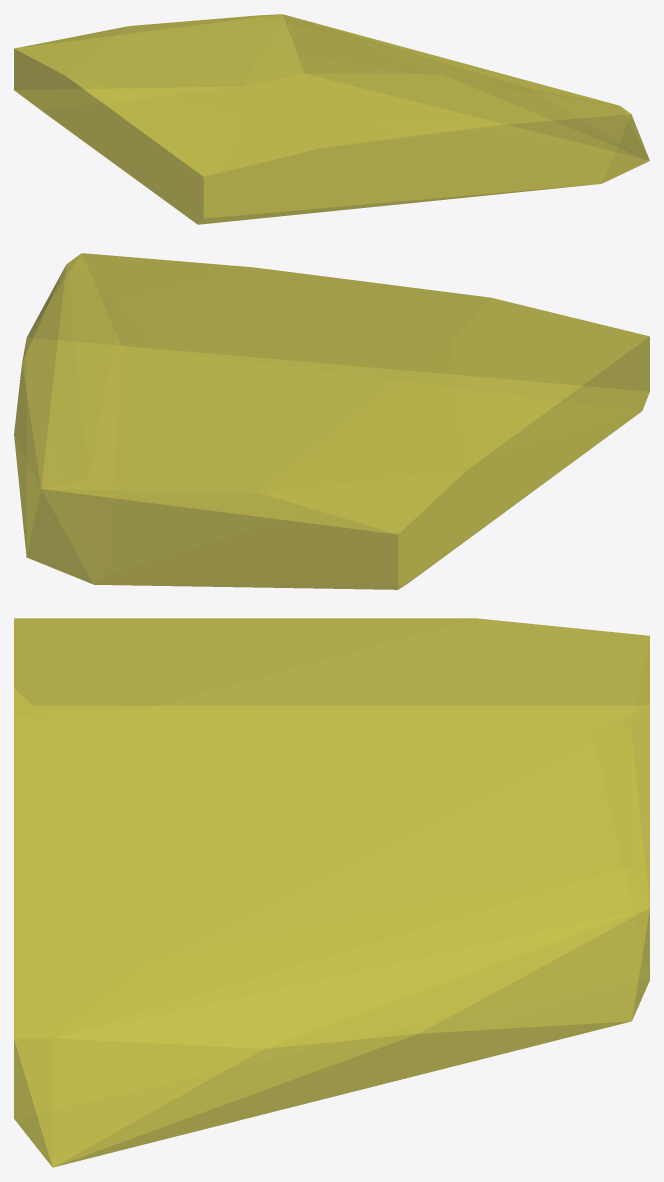
The picture shows the model from 3 angles, top to bottom: view 1: azimuth 30°, elevation 25°; view 2: azimuth 150°, elevation 25°; view 3: azimuth 270°, elevation 25°; orthographic projection. The views are drawn at different scales.
Visible parts, largest first — view 1: Shape_IndexedFaceSet.027_Shape_IndexedFaceSet.5903; view 2: Shape_IndexedFaceSet.027_Shape_IndexedFaceSet.5903; view 3: Shape_IndexedFaceSet.027_Shape_IndexedFaceSet.5903.
Boxes of the visible parts, <box> form: Shape_IndexedFaceSet.027_Shape_IndexedFaceSet.5903: <box>14,14,649,224</box>; Shape_IndexedFaceSet.027_Shape_IndexedFaceSet.5903: <box>14,253,649,589</box>; Shape_IndexedFaceSet.027_Shape_IndexedFaceSet.5903: <box>14,618,649,1167</box>.
Size of the model in its own units: 0.1252 by 0.0272 by 0.0898.
